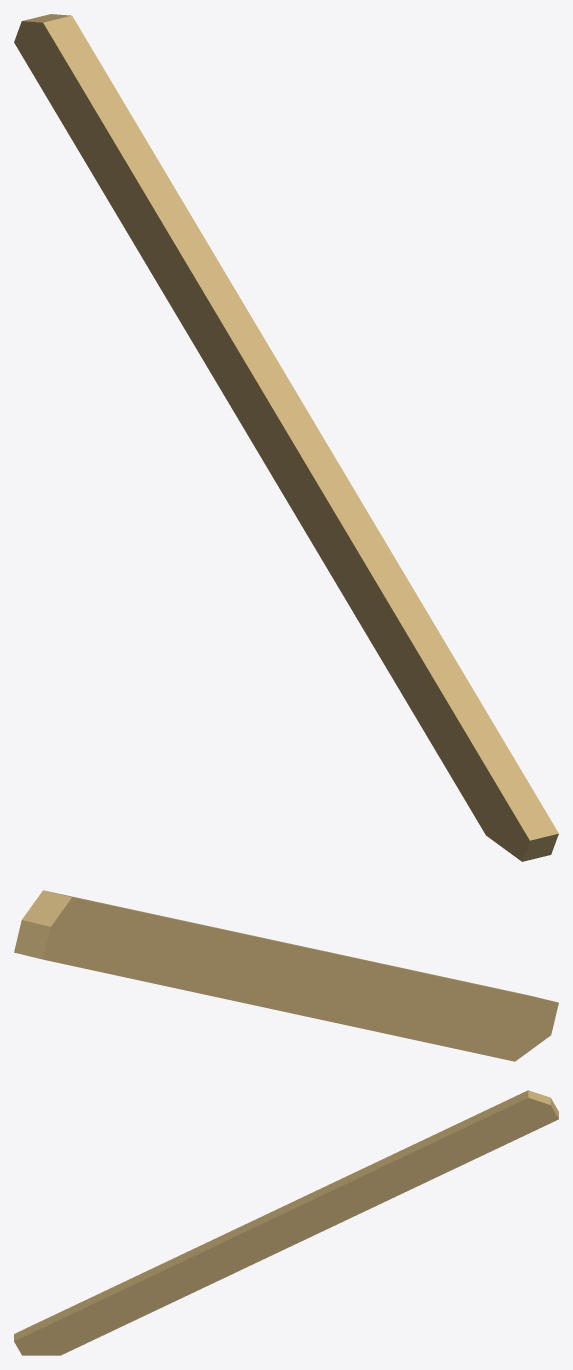
The picture shows the model from 3 angles, top to bottom: view 1: azimuth 30°, elevation 25°; view 2: azimuth 150°, elevation 25°; view 3: azimuth 270°, elevation 25°; orthographic projection. The views are drawn at different scales.
Parts seen in each view (by area): view 1: L1-3-S10-326-WEB03; view 2: L1-3-S10-326-WEB03; view 3: L1-3-S10-326-WEB03.
Part boxes in pixels (x1=…): L1-3-S10-326-WEB03: x1=14, y1=14, x2=558, y2=861; L1-3-S10-326-WEB03: x1=14, y1=890, x2=558, y2=1061; L1-3-S10-326-WEB03: x1=14, y1=1090, x2=558, y2=1355.
Size of the model in its own units: 0.045 by 0.7232 by 1.38.
